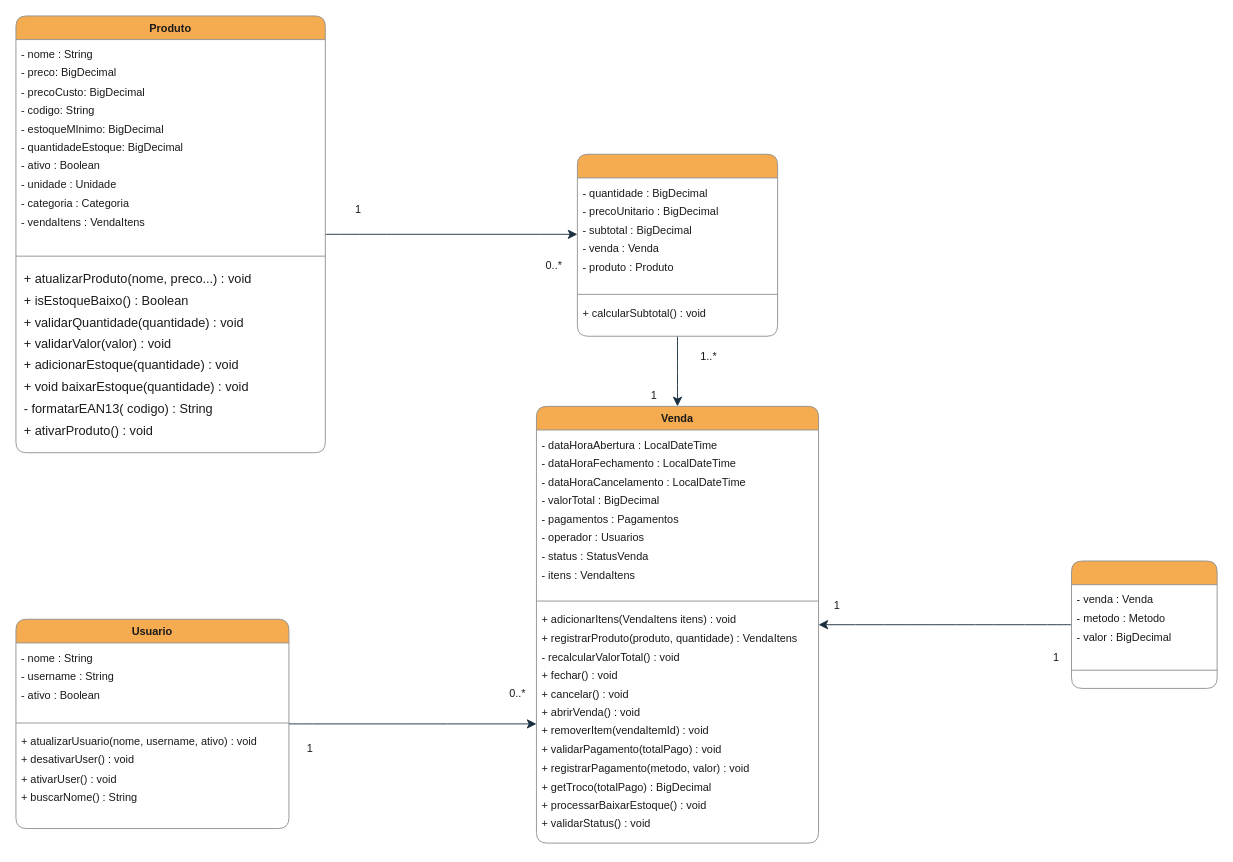
Some shapes in this 1233 by 862 pixel diagram are drawn without their labels. Each missing label, with the box of its shape:
Pagamento: (1071, 560, 1217, 688)
VendaItens: (576, 153, 778, 336)
